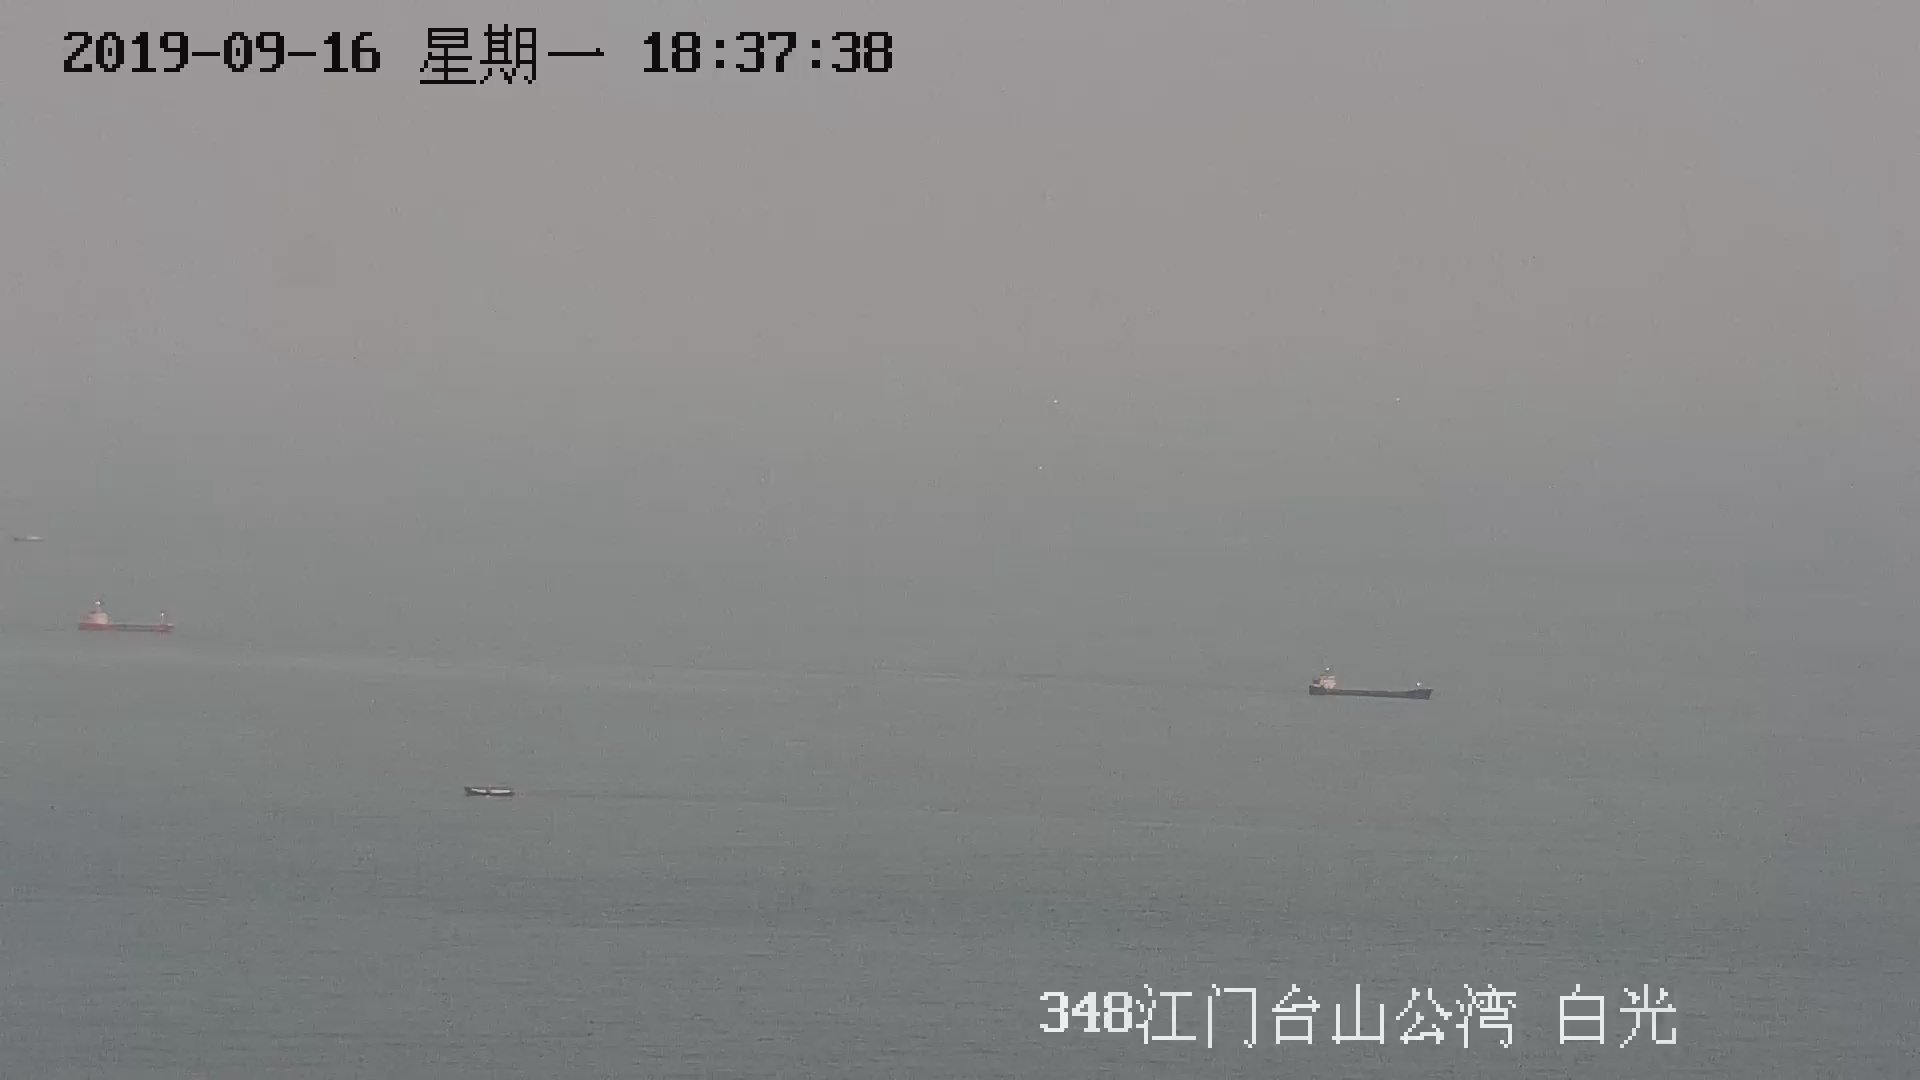ship: (1307, 661, 1433, 704), (79, 609, 175, 637)
